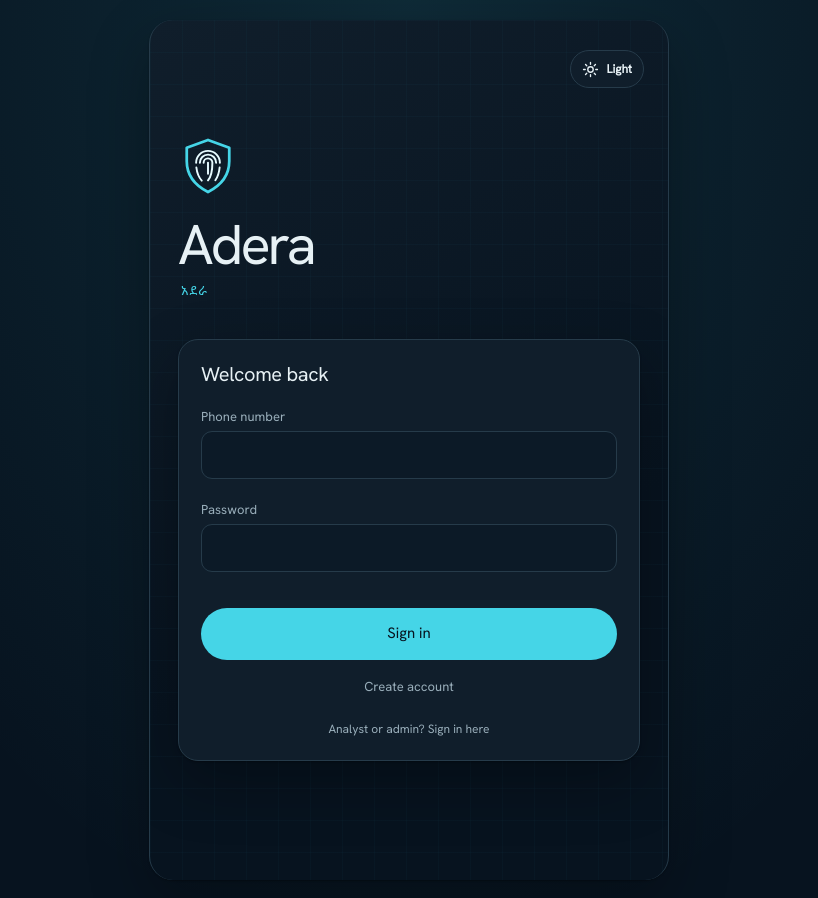
Test: signing in and out › keeps usernames on the dedicated analyst login route
Type "admin" into the field labelled "Phone number" at (409, 455), box [201, 431, 617, 479]
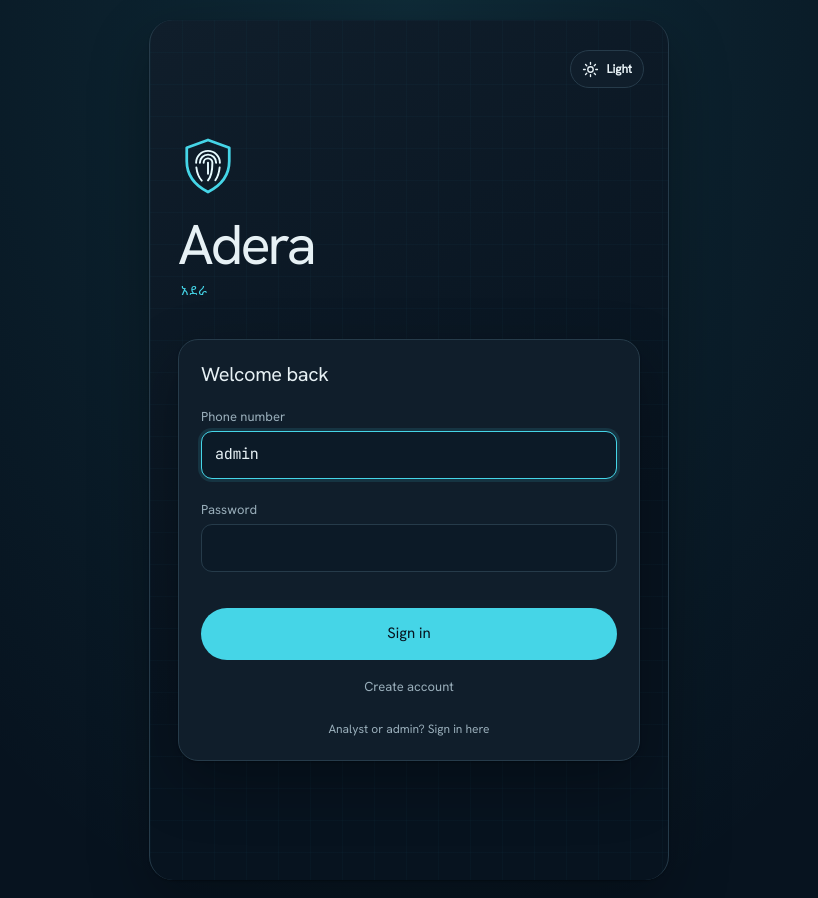
Type "admin" into the password field labelled "Password" at (409, 548), box [201, 524, 617, 572]
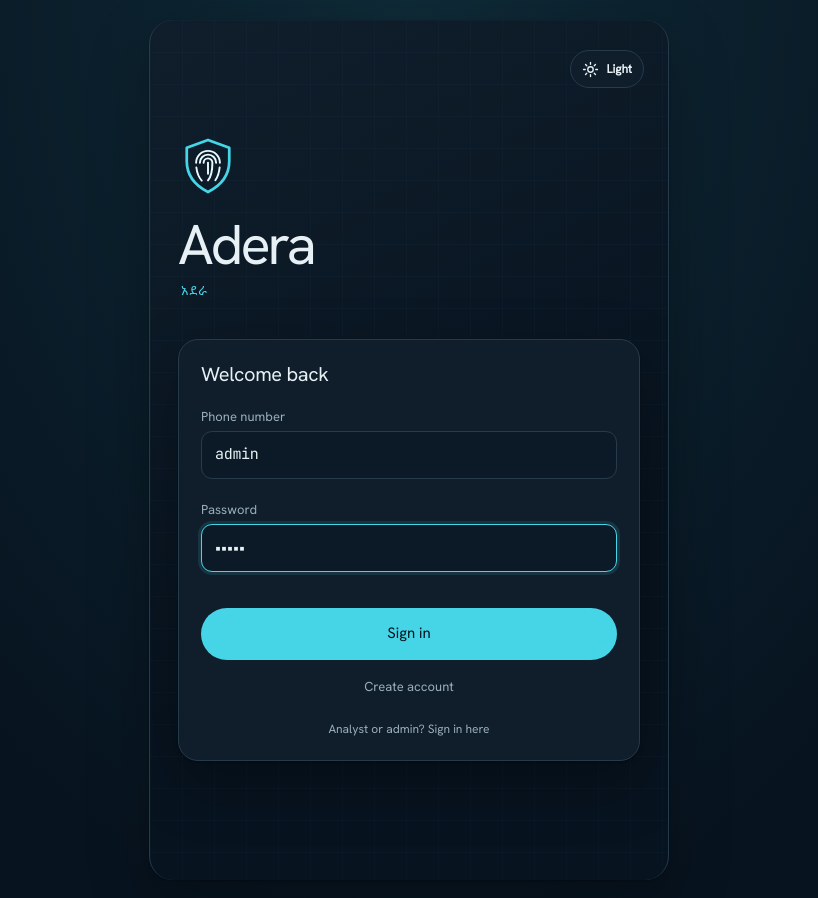
Click the button "Sign in" at (409, 634), box [201, 608, 617, 660]
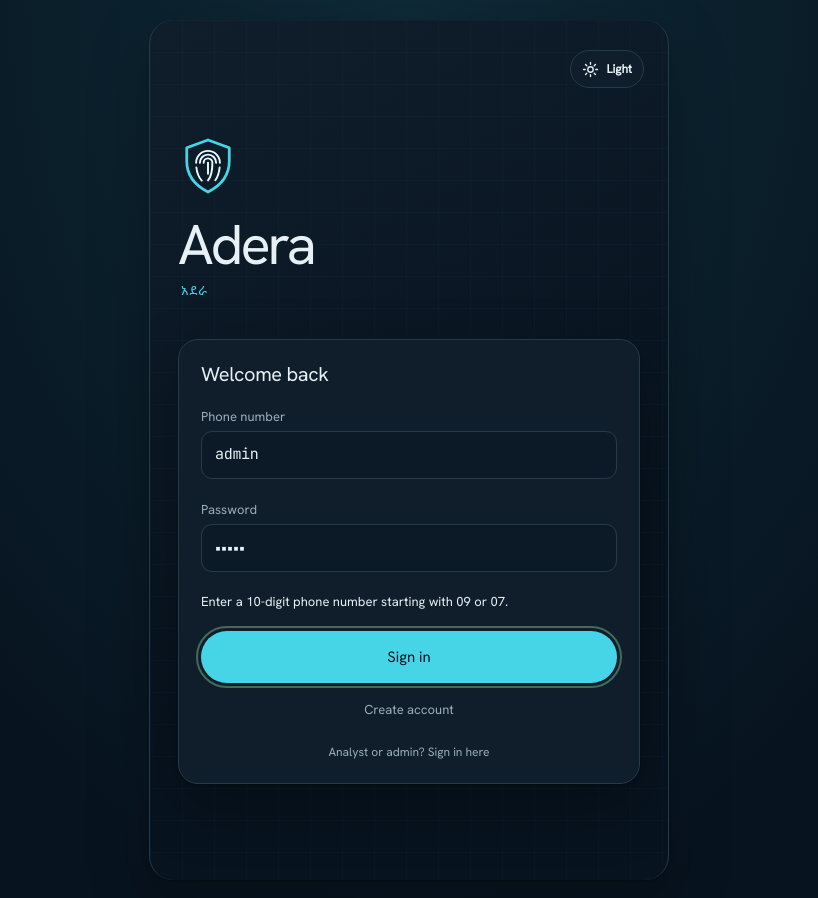
Expected: the message shows "10-digit phone number", [201, 593, 508, 610]
